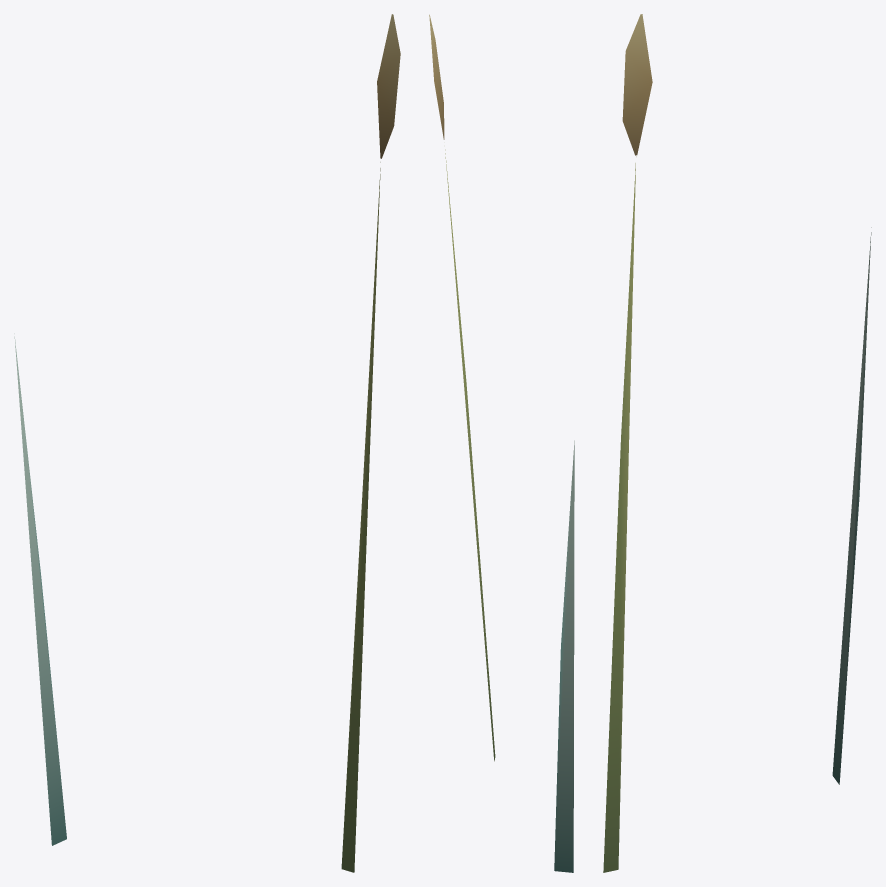
The model's file is MarshReed_LOD3.glb.
3 views of the same model, side by side, from view 1: azimuth 30°, elevation 25°; view 2: azimuth 150°, elevation 25°; view 3: azimuth 270°, elevation 25° (orthographic). The views are drawn at different scales.
Visible parts, largest first — view 1: MarshReed_LOD3; view 2: MarshReed_LOD3; view 3: MarshReed_LOD3.
Part boxes in pixels (x1,y1,x2,y2): MarshReed_LOD3: (14, 14, 400, 872); MarshReed_LOD3: (429, 14, 574, 872); MarshReed_LOD3: (603, 14, 871, 872).
Size of the model in its own units: 0.2013 by 0.593 by 0.1615.
